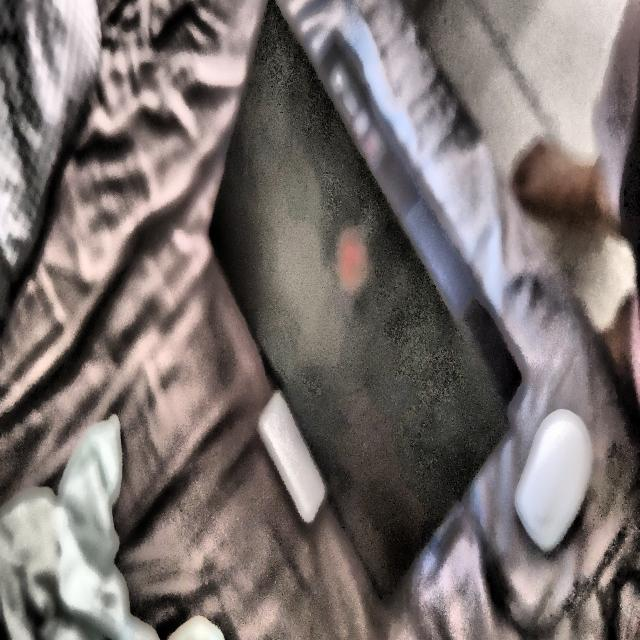Laptop: (209, 0, 523, 599)
MOUSE: (515, 410, 592, 552)
